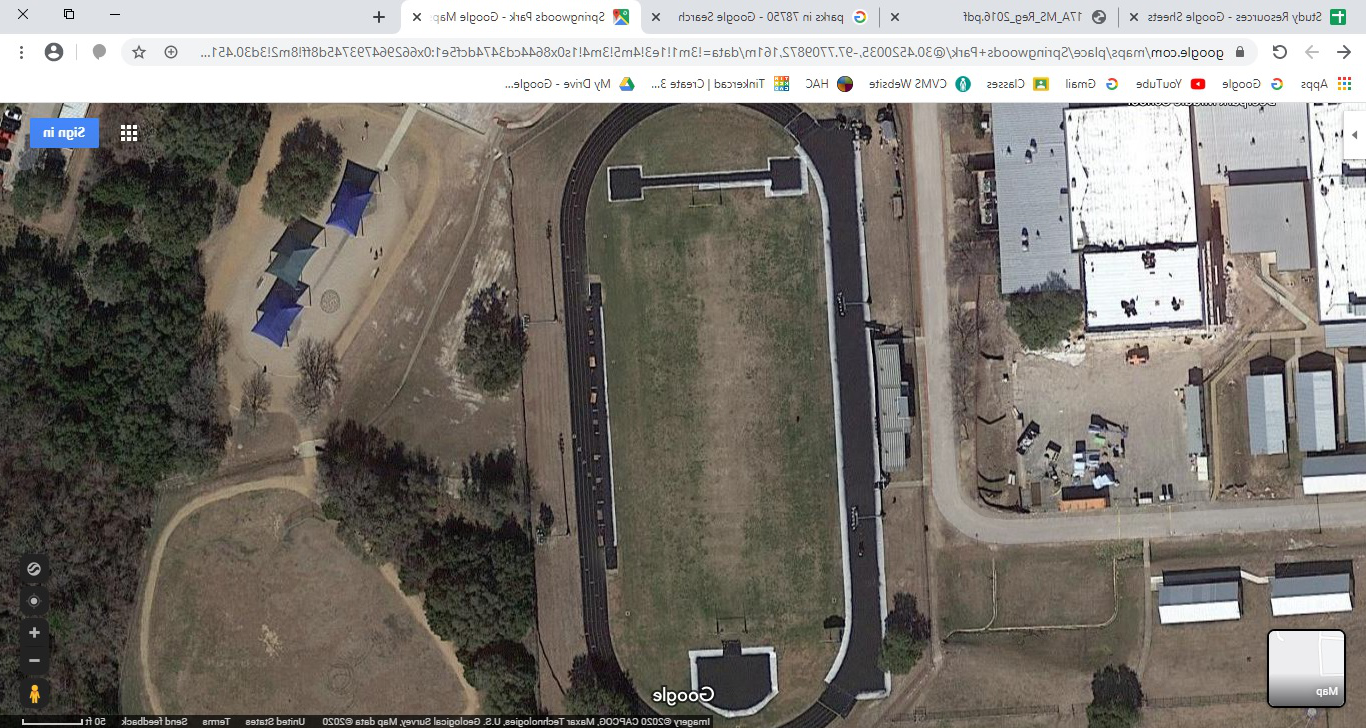soccer: (496, 118, 944, 718)
